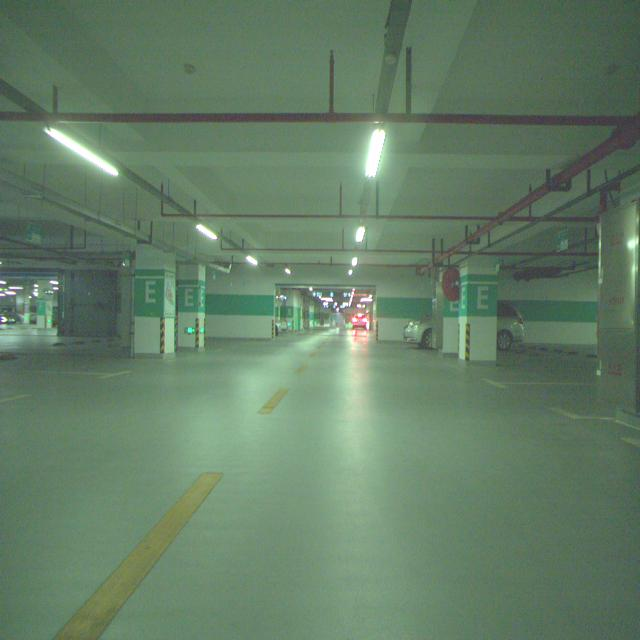pillar: (134, 244, 175, 357), (459, 256, 498, 364), (178, 264, 206, 348)
